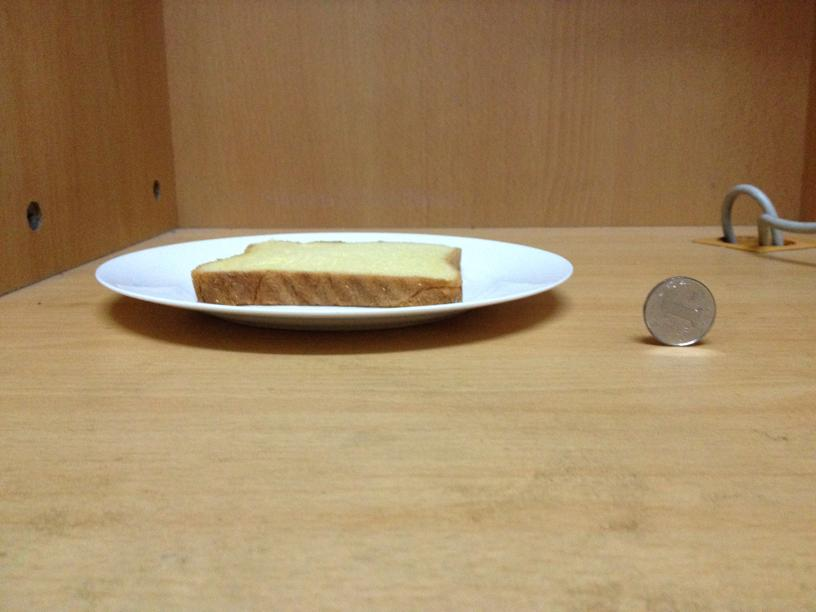bread: (195, 238, 462, 309)
coin: (639, 273, 714, 344)
